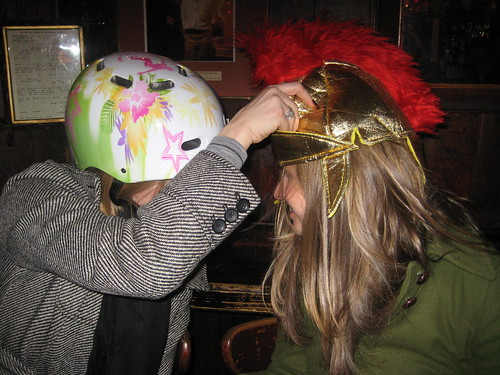helmet: (60, 43, 181, 180)
